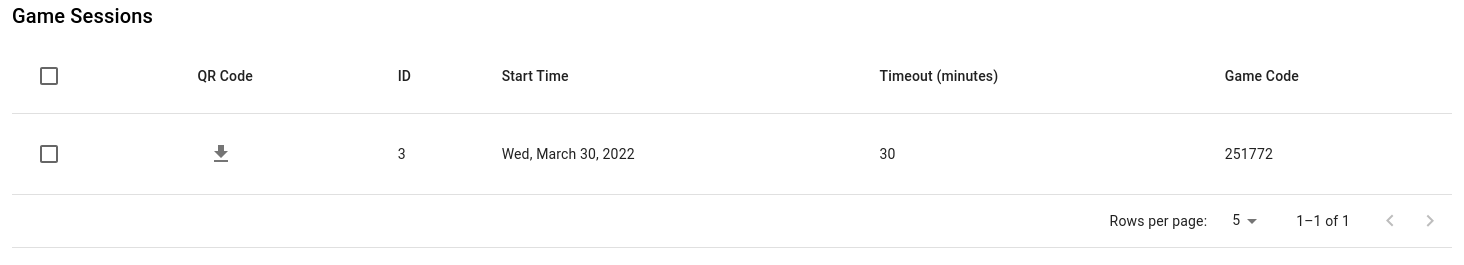
it: <GameSessionsTable /> › main checkbox change › should check all checkboxes if not checked
Expected: the checkbox with id "checkbox3" is not checked, left=37, top=142, right=61, bottom=166
Click the checkbox with id "main-checkbox": (49, 76) left=37, top=64, right=61, bottom=88
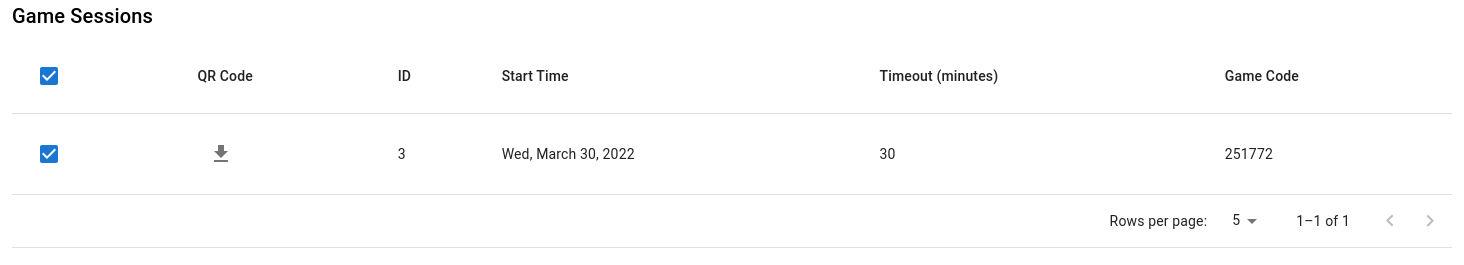
Expected: the checkbox with id "checkbox3" is checked, left=37, top=142, right=61, bottom=166
